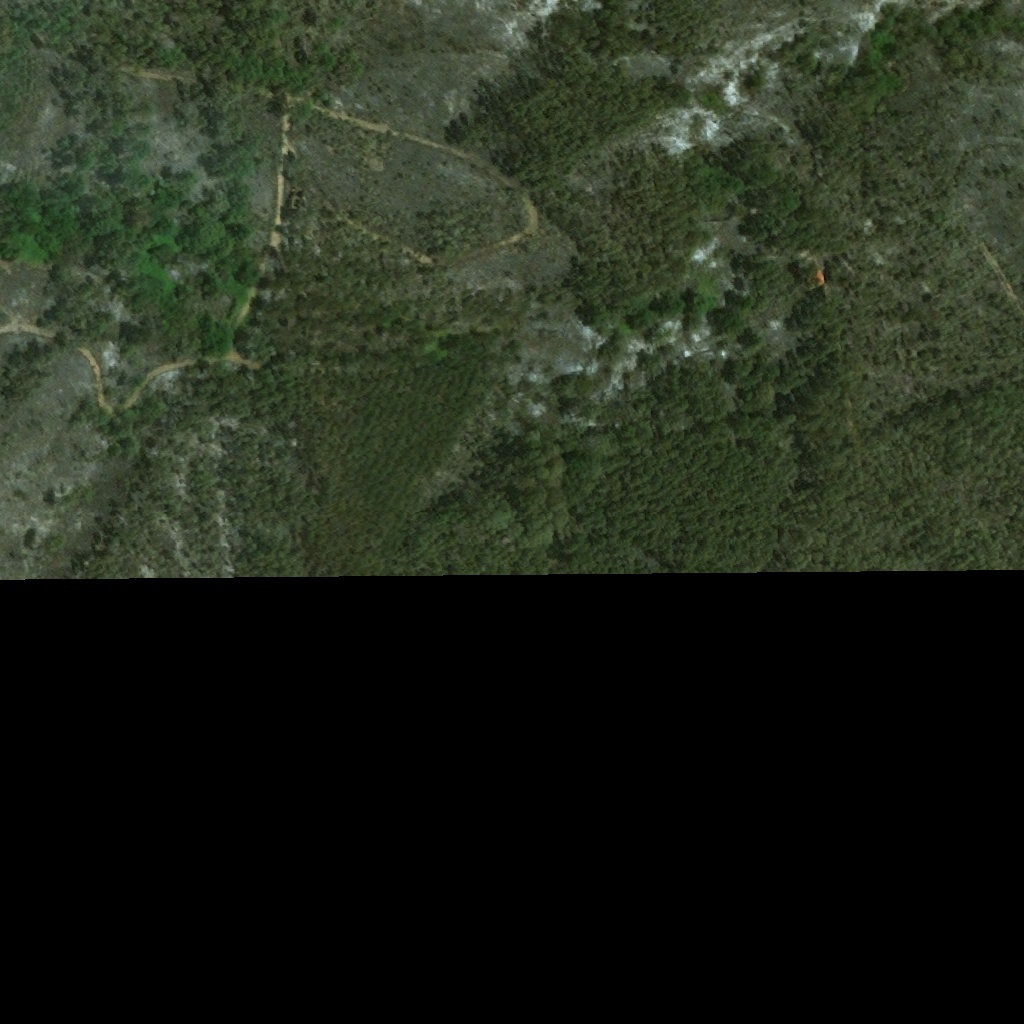2 major-damage: (803, 269, 834, 293)
3 destroyed: (291, 182, 311, 214)
